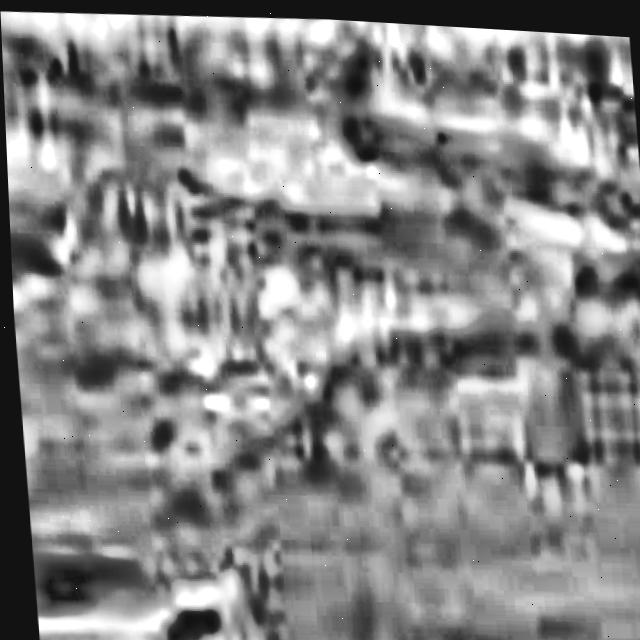dump_truck: (24, 504, 275, 640)
